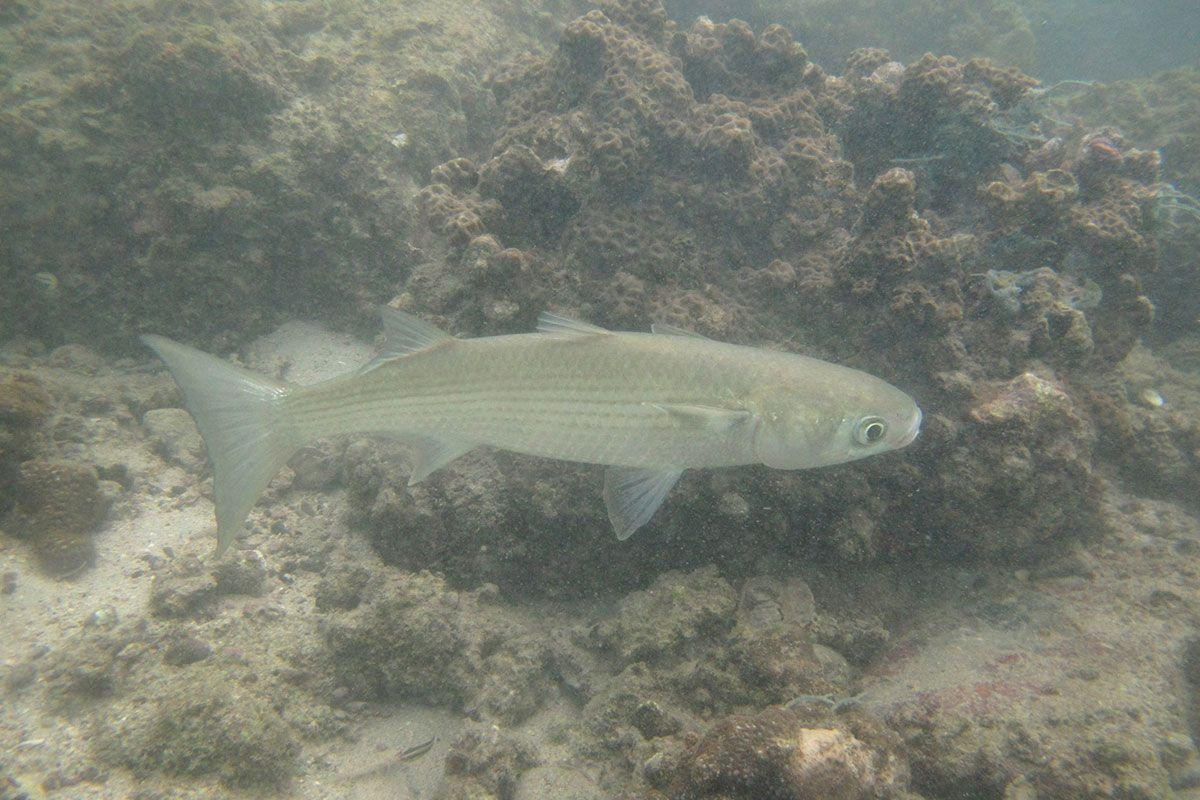Mullet: (143, 288, 930, 566)
